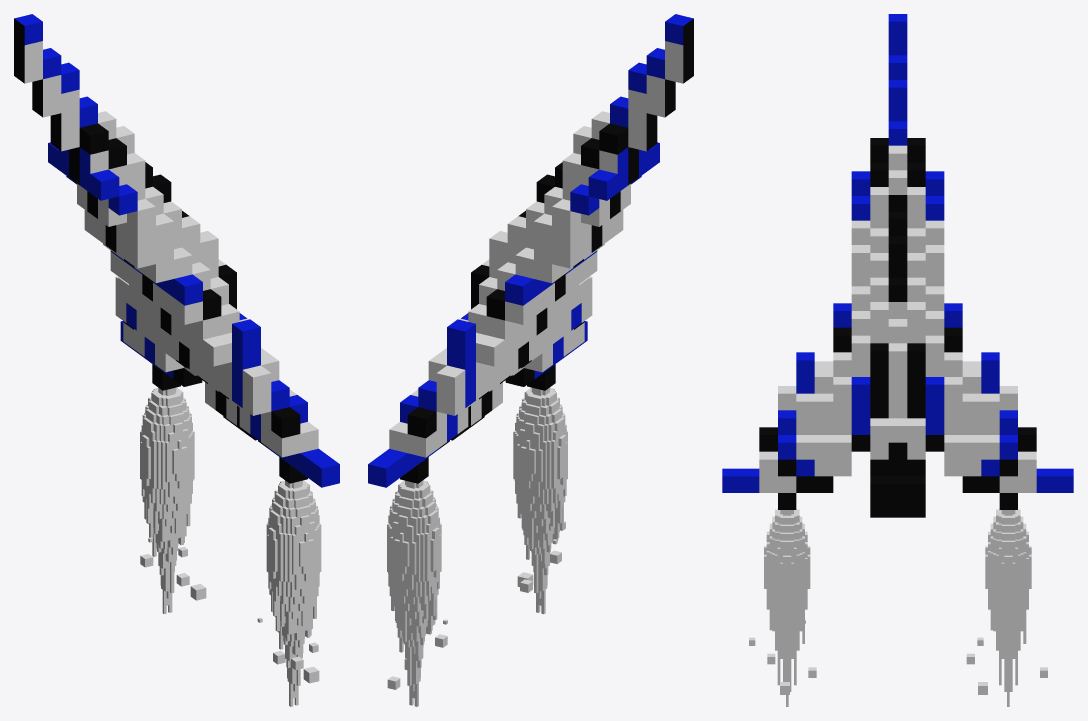
The model's file is Nave1 sin animación.fbx.
3 views of the same model, side by side, from view 1: azimuth 30°, elevation 25°; view 2: azimuth 150°, elevation 25°; view 3: azimuth 270°, elevation 25° (orthographic). The views are drawn at different scales.
Parts seen in each view (by area): view 1: Nave 1; view 2: Nave 1; view 3: Nave 1.
Boxes of the visible parts, bbox=[...] form: Nave 1: bbox=[14, 14, 339, 706]; Nave 1: bbox=[368, 14, 693, 706]; Nave 1: bbox=[722, 14, 1073, 706].
Bounding box in the file's own units: 456 × 666 × 1258.
